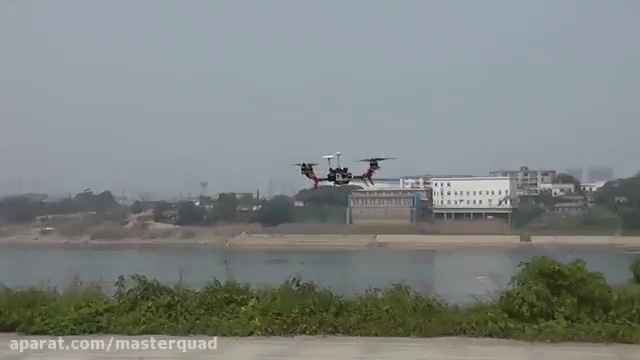drone_other: (285, 148, 398, 189)
